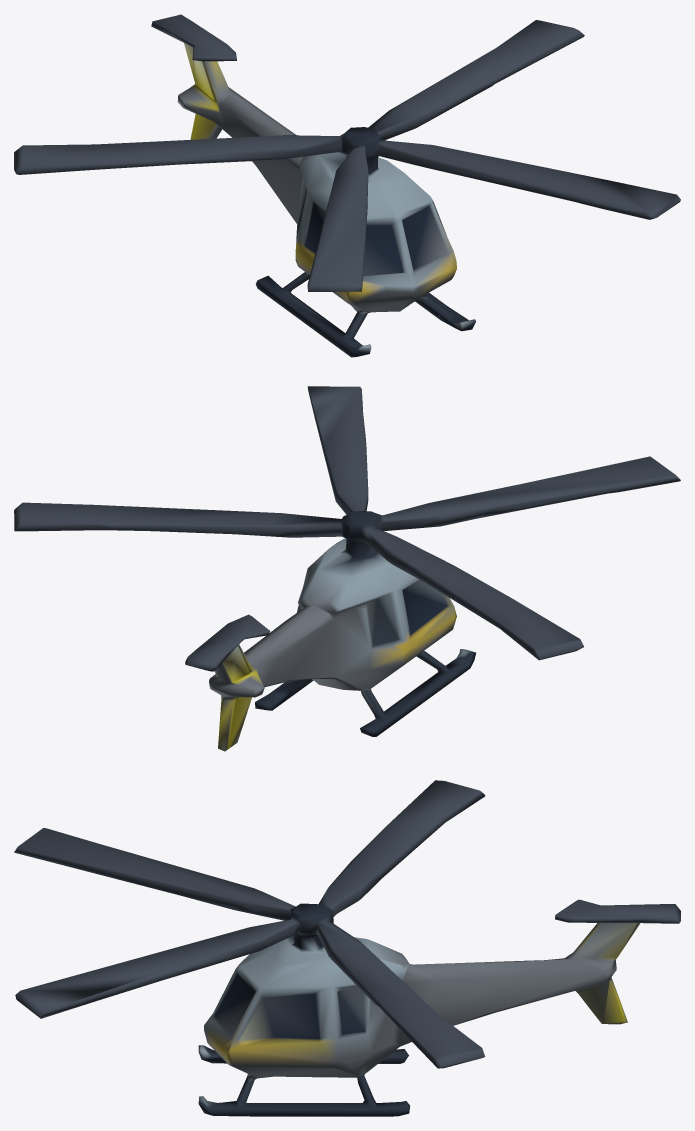
Rendered from gen3d-helicopter-lod1.glb.
3 renders of one model, top to bottom at view 1: azimuth 30°, elevation 25°; view 2: azimuth 150°, elevation 25°; view 3: azimuth 270°, elevation 25°, orthographic. The views are drawn at different scales.
Visible parts, largest first — view 1: part_0; view 2: part_0; view 3: part_0.
Boxes of the visible parts, x1=… form: part_0: x1=14, y1=14, x2=680, y2=357; part_0: x1=14, y1=386, x2=680, y2=751; part_0: x1=14, y1=780, x2=680, y2=1116.
Bounding box in the file's own units: 3.43 × 0.9998 × 3.41.
